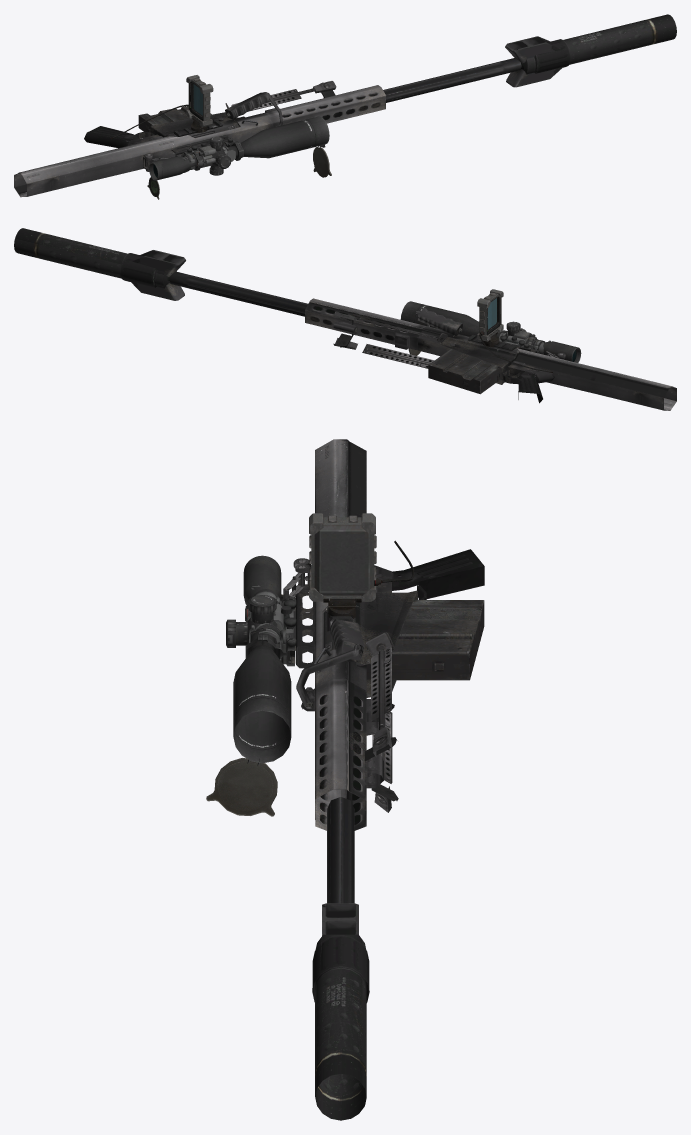
File: viewmodel_m82_arctic_LOD0.obj
The picture shows the model from 3 angles, top to bottom: view 1: azimuth 30°, elevation 25°; view 2: azimuth 150°, elevation 25°; view 3: azimuth 270°, elevation 25°; orthographic projection. The views are drawn at different scales.
Visible parts, largest first — view 1: mtl_weapon_m82_arctic, mtl_weapon_wa2000_scope, mtl_weapon_suppressor_b, mtl_weapon_m82_muzzle_tip, mtl_weapon_motion_tracker_arctic, mtl_weapon_thermal_sight_2, mtl_weapon_m82_trans; view 2: mtl_weapon_m82_arctic, mtl_weapon_suppressor_b, mtl_weapon_wa2000_scope, mtl_weapon_m82_muzzle_tip, mtl_weapon_motion_tracker_arctic, mtl_weapon_thermal_sight_2; view 3: mtl_weapon_m82_arctic, mtl_weapon_wa2000_scope, mtl_weapon_suppressor_b, mtl_weapon_motion_tracker_arctic, mtl_weapon_m82_muzzle_tip, mtl_weapon_m82_trans.
Part boxes in pixels (left/top/right/bottom): mtl_weapon_m82_arctic: left=14, top=58, right=521, bottom=197; mtl_weapon_wa2000_scope: left=147, top=116, right=331, bottom=199; mtl_weapon_suppressor_b: left=521, top=14, right=676, bottom=74; mtl_weapon_m82_muzzle_tip: left=505, top=36, right=563, bottom=87; mtl_weapon_motion_tracker_arctic: left=110, top=75, right=222, bottom=139; mtl_weapon_thermal_sight_2: left=183, top=143, right=235, bottom=172; mtl_weapon_m82_trans: left=231, top=89, right=301, bottom=110; mtl_weapon_m82_arctic: left=169, top=271, right=676, bottom=410; mtl_weapon_suppressor_b: left=14, top=228, right=170, bottom=288; mtl_weapon_wa2000_scope: left=400, top=301, right=581, bottom=362; mtl_weapon_m82_muzzle_tip: left=131, top=250, right=185, bottom=300; mtl_weapon_motion_tracker_arctic: left=467, top=289, right=552, bottom=372; mtl_weapon_thermal_sight_2: left=499, top=330, right=544, bottom=350; mtl_weapon_m82_arctic: left=280, top=439, right=484, bottom=903; mtl_weapon_wa2000_scope: left=206, top=555, right=296, bottom=816; mtl_weapon_suppressor_b: left=312, top=934, right=369, bottom=1120; mtl_weapon_motion_tracker_arctic: left=309, top=513, right=414, bottom=630; mtl_weapon_m82_muzzle_tip: left=319, top=903, right=358, bottom=978; mtl_weapon_m82_trans: left=371, top=647, right=392, bottom=722.
Size of the model in its own units: 180 by 26.97 by 33.41.
